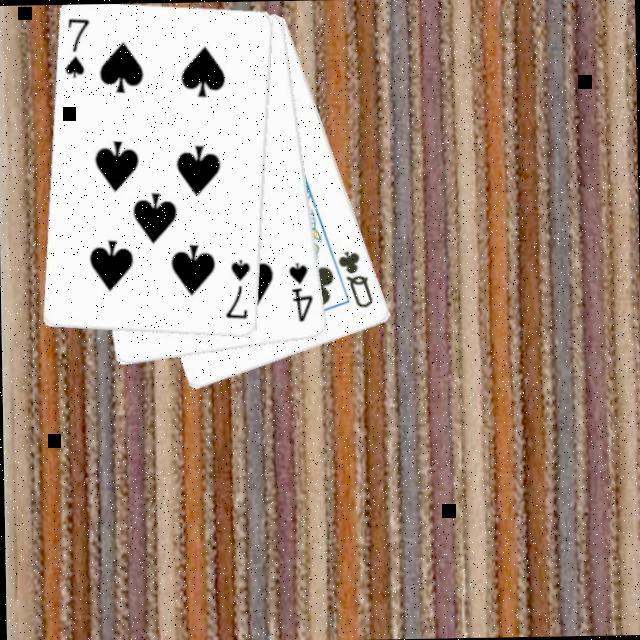4S: (283, 261, 316, 328)
7S: (220, 258, 253, 325), (59, 16, 92, 83)
QC: (334, 249, 375, 314)
